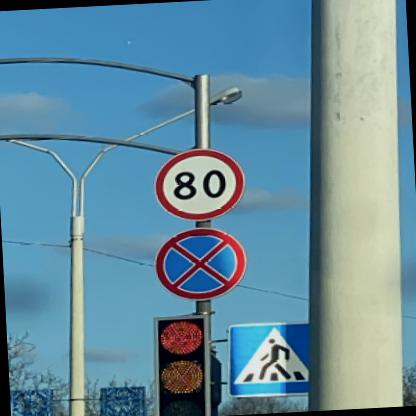crosswalk: (224, 320, 308, 396)
speedlimit: (150, 145, 244, 220)
trafficlight: (148, 311, 212, 415)
